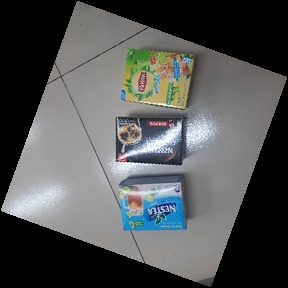CF Viet: (112, 115, 188, 167)
LipTon: (119, 47, 195, 111)
Nestea: (117, 173, 189, 235)
